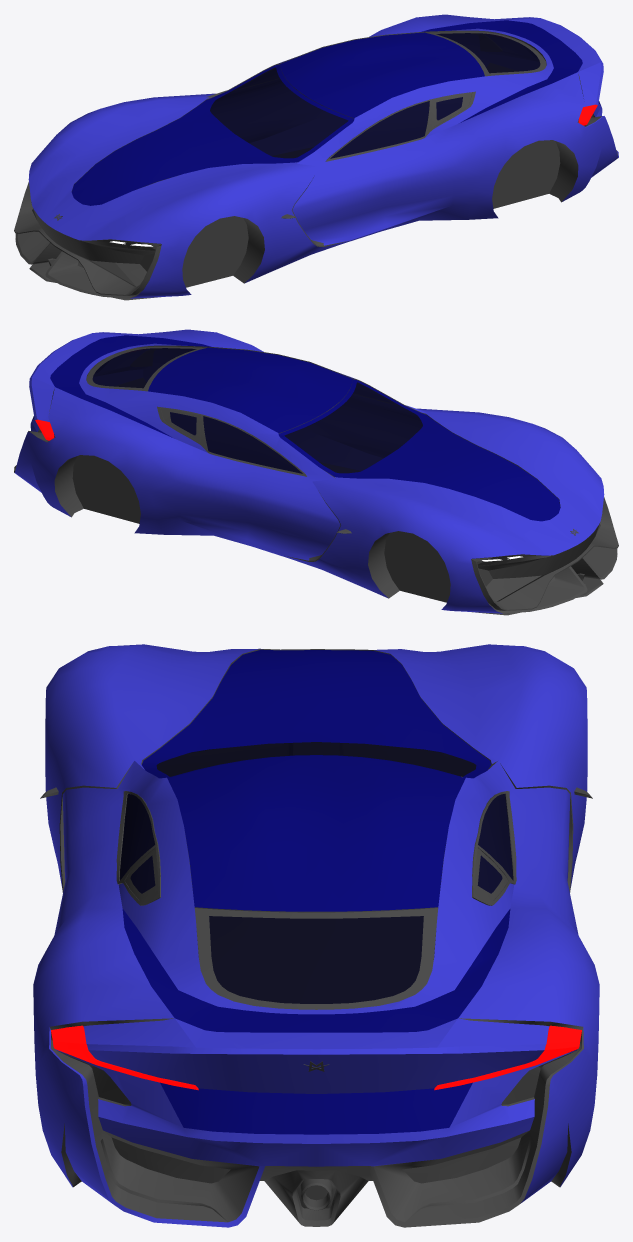
Rendered from Car_test_Blue.glb.
The picture shows the model from 3 angles, top to bottom: view 1: azimuth 30°, elevation 25°; view 2: azimuth 150°, elevation 25°; view 3: azimuth 270°, elevation 25°; orthographic projection. The views are drawn at different scales.
Visible parts, largest first — view 1: 3DGeom-004, 3DGeom-005, 3DGeom-009, 3DGeom-006; view 2: 3DGeom-004, 3DGeom-005, 3DGeom-009, 3DGeom-006; view 3: 3DGeom-004, 3DGeom-005, 3DGeom-009, 3DGeom-006, 3DGeom-008.
Part boxes in pixels (<box>): 3DGeom-004: <box>28,14,618,298</box>; 3DGeom-005: <box>71,20,600,205</box>; 3DGeom-009: <box>14,30,617,300</box>; 3DGeom-006: <box>210,33,540,158</box>; 3DGeom-004: <box>14,329,604,613</box>; 3DGeom-005: <box>32,335,560,521</box>; 3DGeom-009: <box>14,345,618,615</box>; 3DGeom-006: <box>92,348,422,473</box>; 3DGeom-004: <box>33,644,599,1227</box>; 3DGeom-005: <box>122,649,510,1134</box>; 3DGeom-009: <box>40,649,592,1227</box>; 3DGeom-006: <box>119,742,513,1003</box>; 3DGeom-008: <box>51,1025,581,1090</box>.
Bounding box in the file's own units: 7.27 × 1.73 × 3.27.
